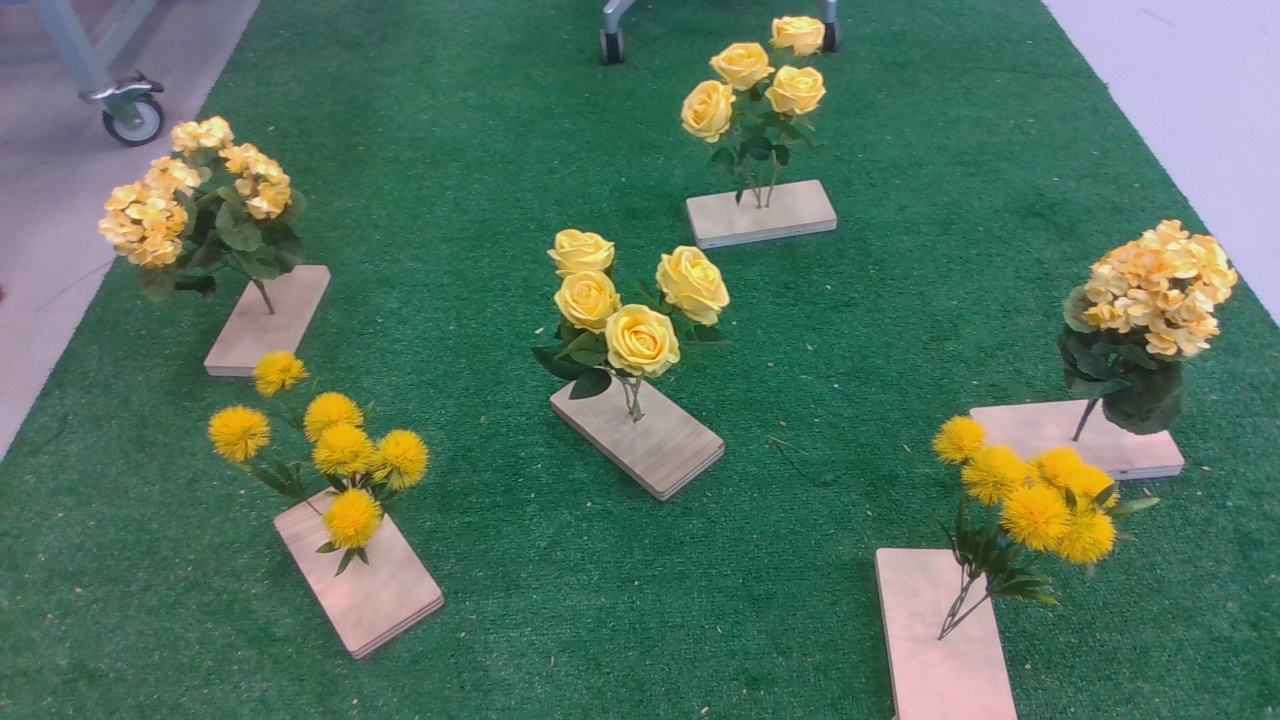dandelion: (192, 359, 442, 579), (928, 416, 1166, 612)
geranium: (103, 116, 315, 329), (1051, 218, 1249, 410)
rose: (531, 222, 740, 408), (678, 16, 849, 181)
